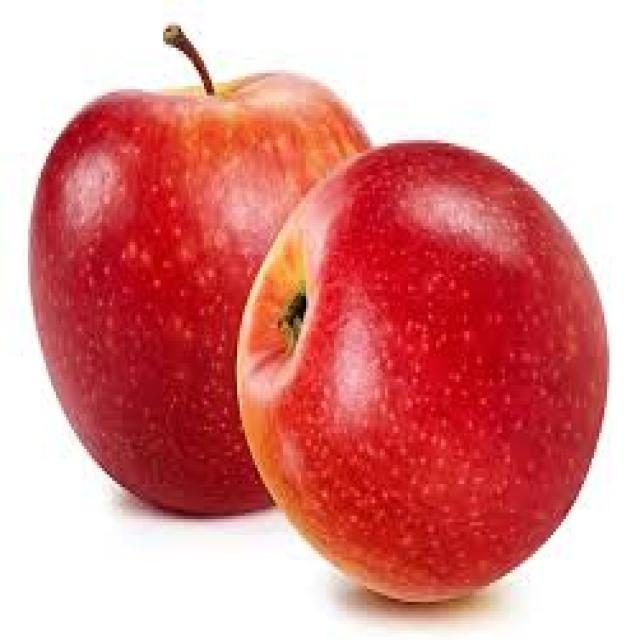non_orange: (222, 116, 620, 627), (9, 59, 388, 552)
